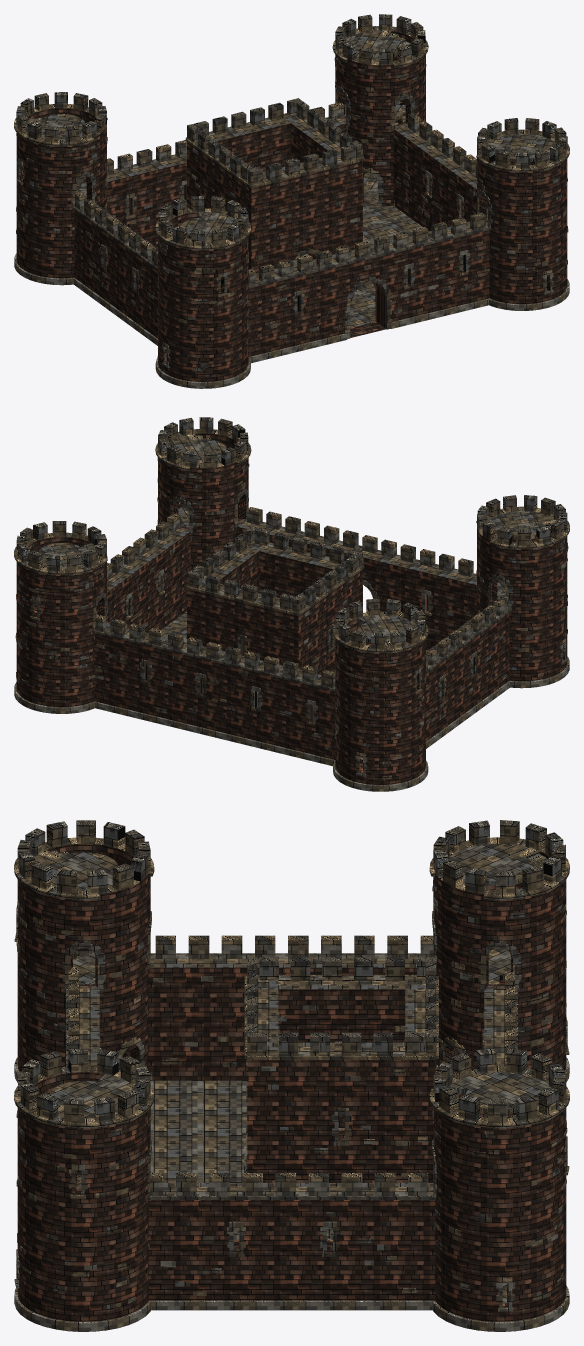
Rendered from dungeon_castle.glb.
3 renders of one model, top to bottom at view 1: azimuth 30°, elevation 25°; view 2: azimuth 150°, elevation 25°; view 3: azimuth 270°, elevation 25°, orthographic. The views are drawn at different scales.
Parts seen in each view (by area): view 1: Procedural_Level_Castle; view 2: Procedural_Level_Castle; view 3: Procedural_Level_Castle.
Part boxes in pixels (left/top/right/bottom): Procedural_Level_Castle: left=14, top=14, right=569, bottom=388; Procedural_Level_Castle: left=14, top=417, right=569, bottom=791; Procedural_Level_Castle: left=14, top=820, right=569, bottom=1331.
Size of the model in its own units: 32.75 by 12 by 26.75.
2 materials, 2 textured.
